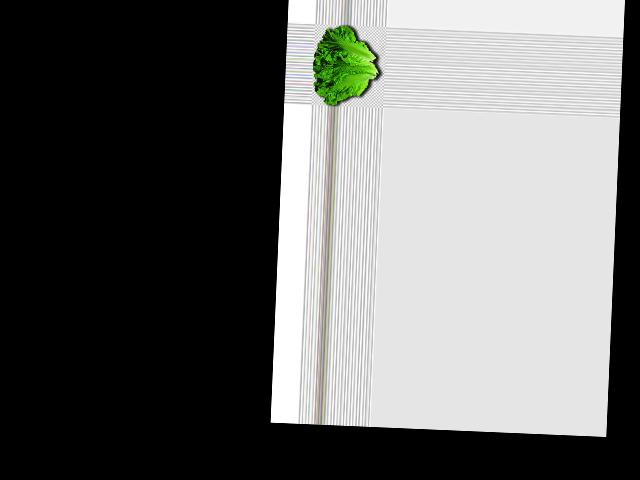lettuce: (312, 22, 382, 105)
